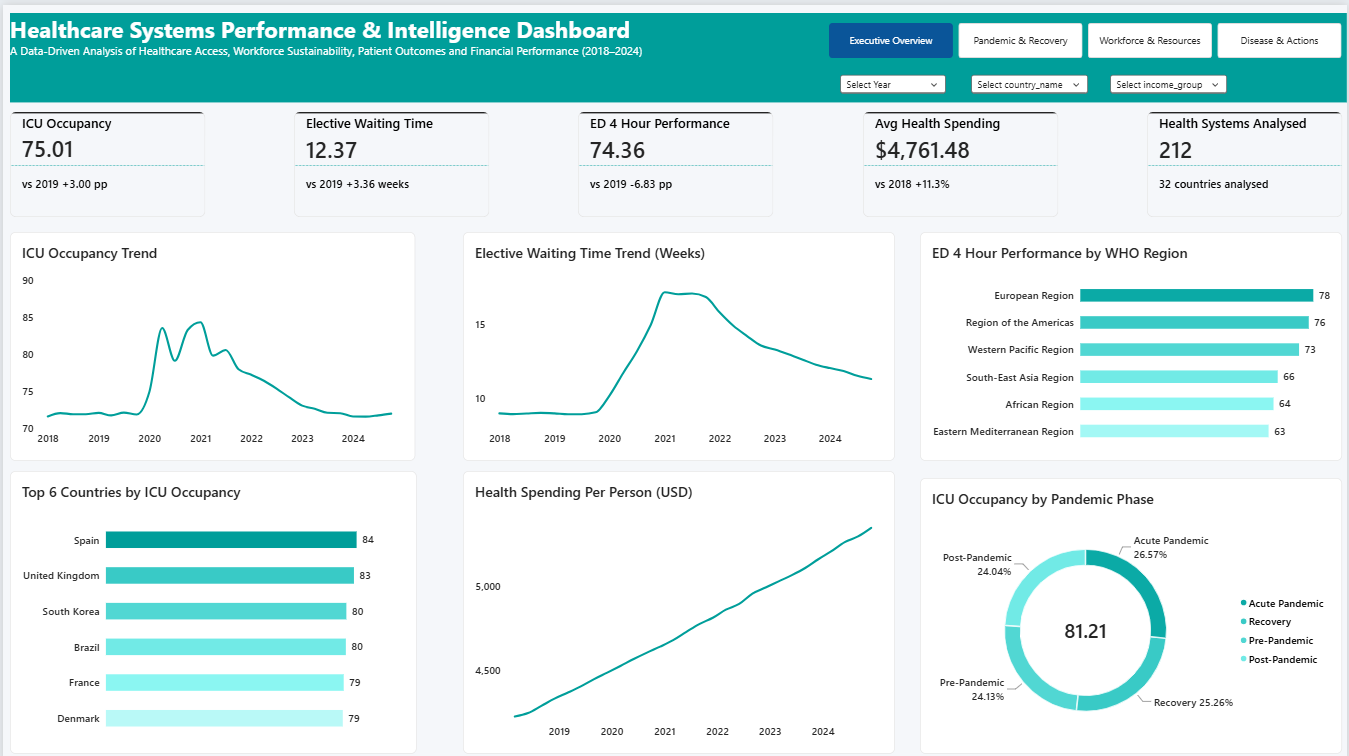

This screenshot's page, from the dashboard's own definition file:
{"tool":"powerbi","page":{"name":"Executive Overview","canvas":[1920,1080],"ordinal":0},"visuals":[{"type":"shape","box":[10.5,11.9,1909.8,127.8],"z":0},{"type":"cardVisual","fields":{"Data":["Measure (2).ICU Occupancy"]},"box":[10,152.9,279.2,150.1],"z":1000},{"type":"cardVisual","fields":{"Data":["Measure (2).Elective Waiting Time"]},"box":[416.1,152.9,279.2,150.1],"z":2000},{"type":"cardVisual","fields":{"Data":["Measure (2).ED 4 Hour Performance"]},"box":[822.1,152.9,279.2,150.1],"z":3000},{"type":"cardVisual","fields":{"Data":["Measure (2).Health Spending"]},"box":[1228.2,152.9,279.2,150.1],"z":4000},{"type":"cardVisual","fields":{"Data":["Measure (2).Health Systems Analysed"]},"box":[1634.3,152.9,279.2,150.1],"z":5000},{"type":"lineChart","title":"ICU Occupancy Trend","fields":{"Category":["dim_date.quarter_start_date.Variation.Date Hierarchy.Year","dim_date.quarter_start_date.Variation.Date Hierarchy.Quarter"],"Y":["Measure (2).ICU Occupancy"]},"box":[10,324.3,578.6,327.1],"z":6000},{"type":"lineChart","title":"Elective Waiting Time Trend (Weeks)","fields":{"Category":["dim_date.quarter_start_date.Variation.Date Hierarchy.Year","dim_date.quarter_start_date.Variation.Date Hierarchy.Quarter"],"Y":["Measure (2).Elective Waiting Time"]},"box":[657.1,324.3,617.1,327.1],"z":7000},{"type":"clusteredBarChart","title":"ED 4 Hour Performance by WHO Region","fields":{"Category":["dim_country.who_region"],"Y":["Measure (2).ED 4 Hour Performance"]},"box":[1310,324.3,602.9,327.1],"z":8000},{"type":"clusteredBarChart","title":"Top 6 Countries by ICU Occupancy","fields":{"Category":["dim_country.country_name"],"Y":["Measure (2).ICU Occupancy"]},"box":[10,665.7,581.4,404.3],"z":9000},{"type":"lineChart","title":"Health Spending Per Person (USD)","fields":{"Category":["dim_date.quarter_end_date.Variation.Date Hierarchy.Year","dim_date.quarter_end_date.Variation.Date Hierarchy.Quarter","dim_date.quarter_end_date.Variation.Date Hierarchy.Month"],"Y":["Measure (2).Avg Health Spending"]},"box":[657.1,665.7,617.1,404.3],"z":10000},{"type":"donutChart","title":"ICU Occupancy by Pandemic Phase","fields":{"Category":["dim_date.pandemic_phase"],"Y":["Measure (2).ICU Occupancy"]},"box":[1310,675.7,602.9,394.3],"z":11000},{"type":"textbox","box":[10,11.4,904.3,128.6],"z":12000},{"type":"pageNavigator","box":[1180,25.7,732.9,50],"z":13000},{"type":"listSlicer","fields":{"Values":["dim_date.quarter_end_date.Variation.Date Hierarchy.Year"]},"box":[1180,85.7,182.9,52.9],"z":13001},{"type":"listSlicer","fields":{"Values":["dim_country.country_name"]},"box":[1367.1,85.7,198.6,52.9],"z":13002},{"type":"listSlicer","fields":{"Values":["dim_country.income_group"]},"box":[1565.7,85.7,198.6,52.9],"z":13003}]}

Visuals, with their boxes in screenshot pixels (x1, y1, x2, y2), scaled from the page's 1920x1080 canvas onto the 1349x756 screenshot:
shape: l=7, t=8, r=1348, b=98
cardVisual - Measure (2).ICU Occupancy: l=7, t=107, r=203, b=212
cardVisual - Measure (2).Elective Waiting Time: l=292, t=107, r=489, b=212
cardVisual - Measure (2).ED 4 Hour Performance: l=578, t=107, r=774, b=212
cardVisual - Measure (2).Health Spending: l=863, t=107, r=1059, b=212
cardVisual - Measure (2).Health Systems Analysed: l=1148, t=107, r=1344, b=212
"ICU Occupancy Trend" lineChart: l=7, t=227, r=414, b=456
"Elective Waiting Time Trend (Weeks)" lineChart: l=462, t=227, r=895, b=456
"ED 4 Hour Performance by WHO Region" clusteredBarChart: l=920, t=227, r=1344, b=456
"Top 6 Countries by ICU Occupancy" clusteredBarChart: l=7, t=466, r=416, b=749
"Health Spending Per Person (USD)" lineChart: l=462, t=466, r=895, b=749
"ICU Occupancy by Pandemic Phase" donutChart: l=920, t=473, r=1344, b=749
textbox: l=7, t=8, r=642, b=98
pageNavigator: l=829, t=18, r=1344, b=53
listSlicer - dim_date.quarter_end_date.Variation.Date Hierarchy.Year: l=829, t=60, r=958, b=97
listSlicer - dim_country.country_name: l=961, t=60, r=1100, b=97
listSlicer - dim_country.income_group: l=1100, t=60, r=1240, b=97
